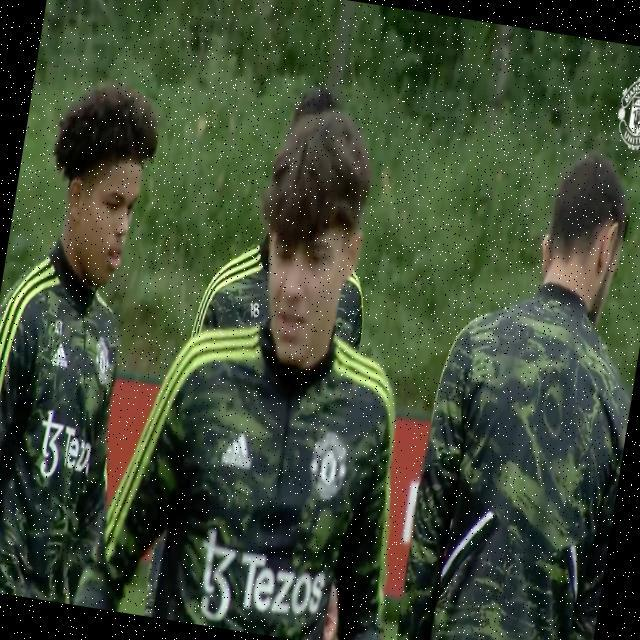Adidas: (220, 427, 258, 472), (51, 339, 72, 371)
